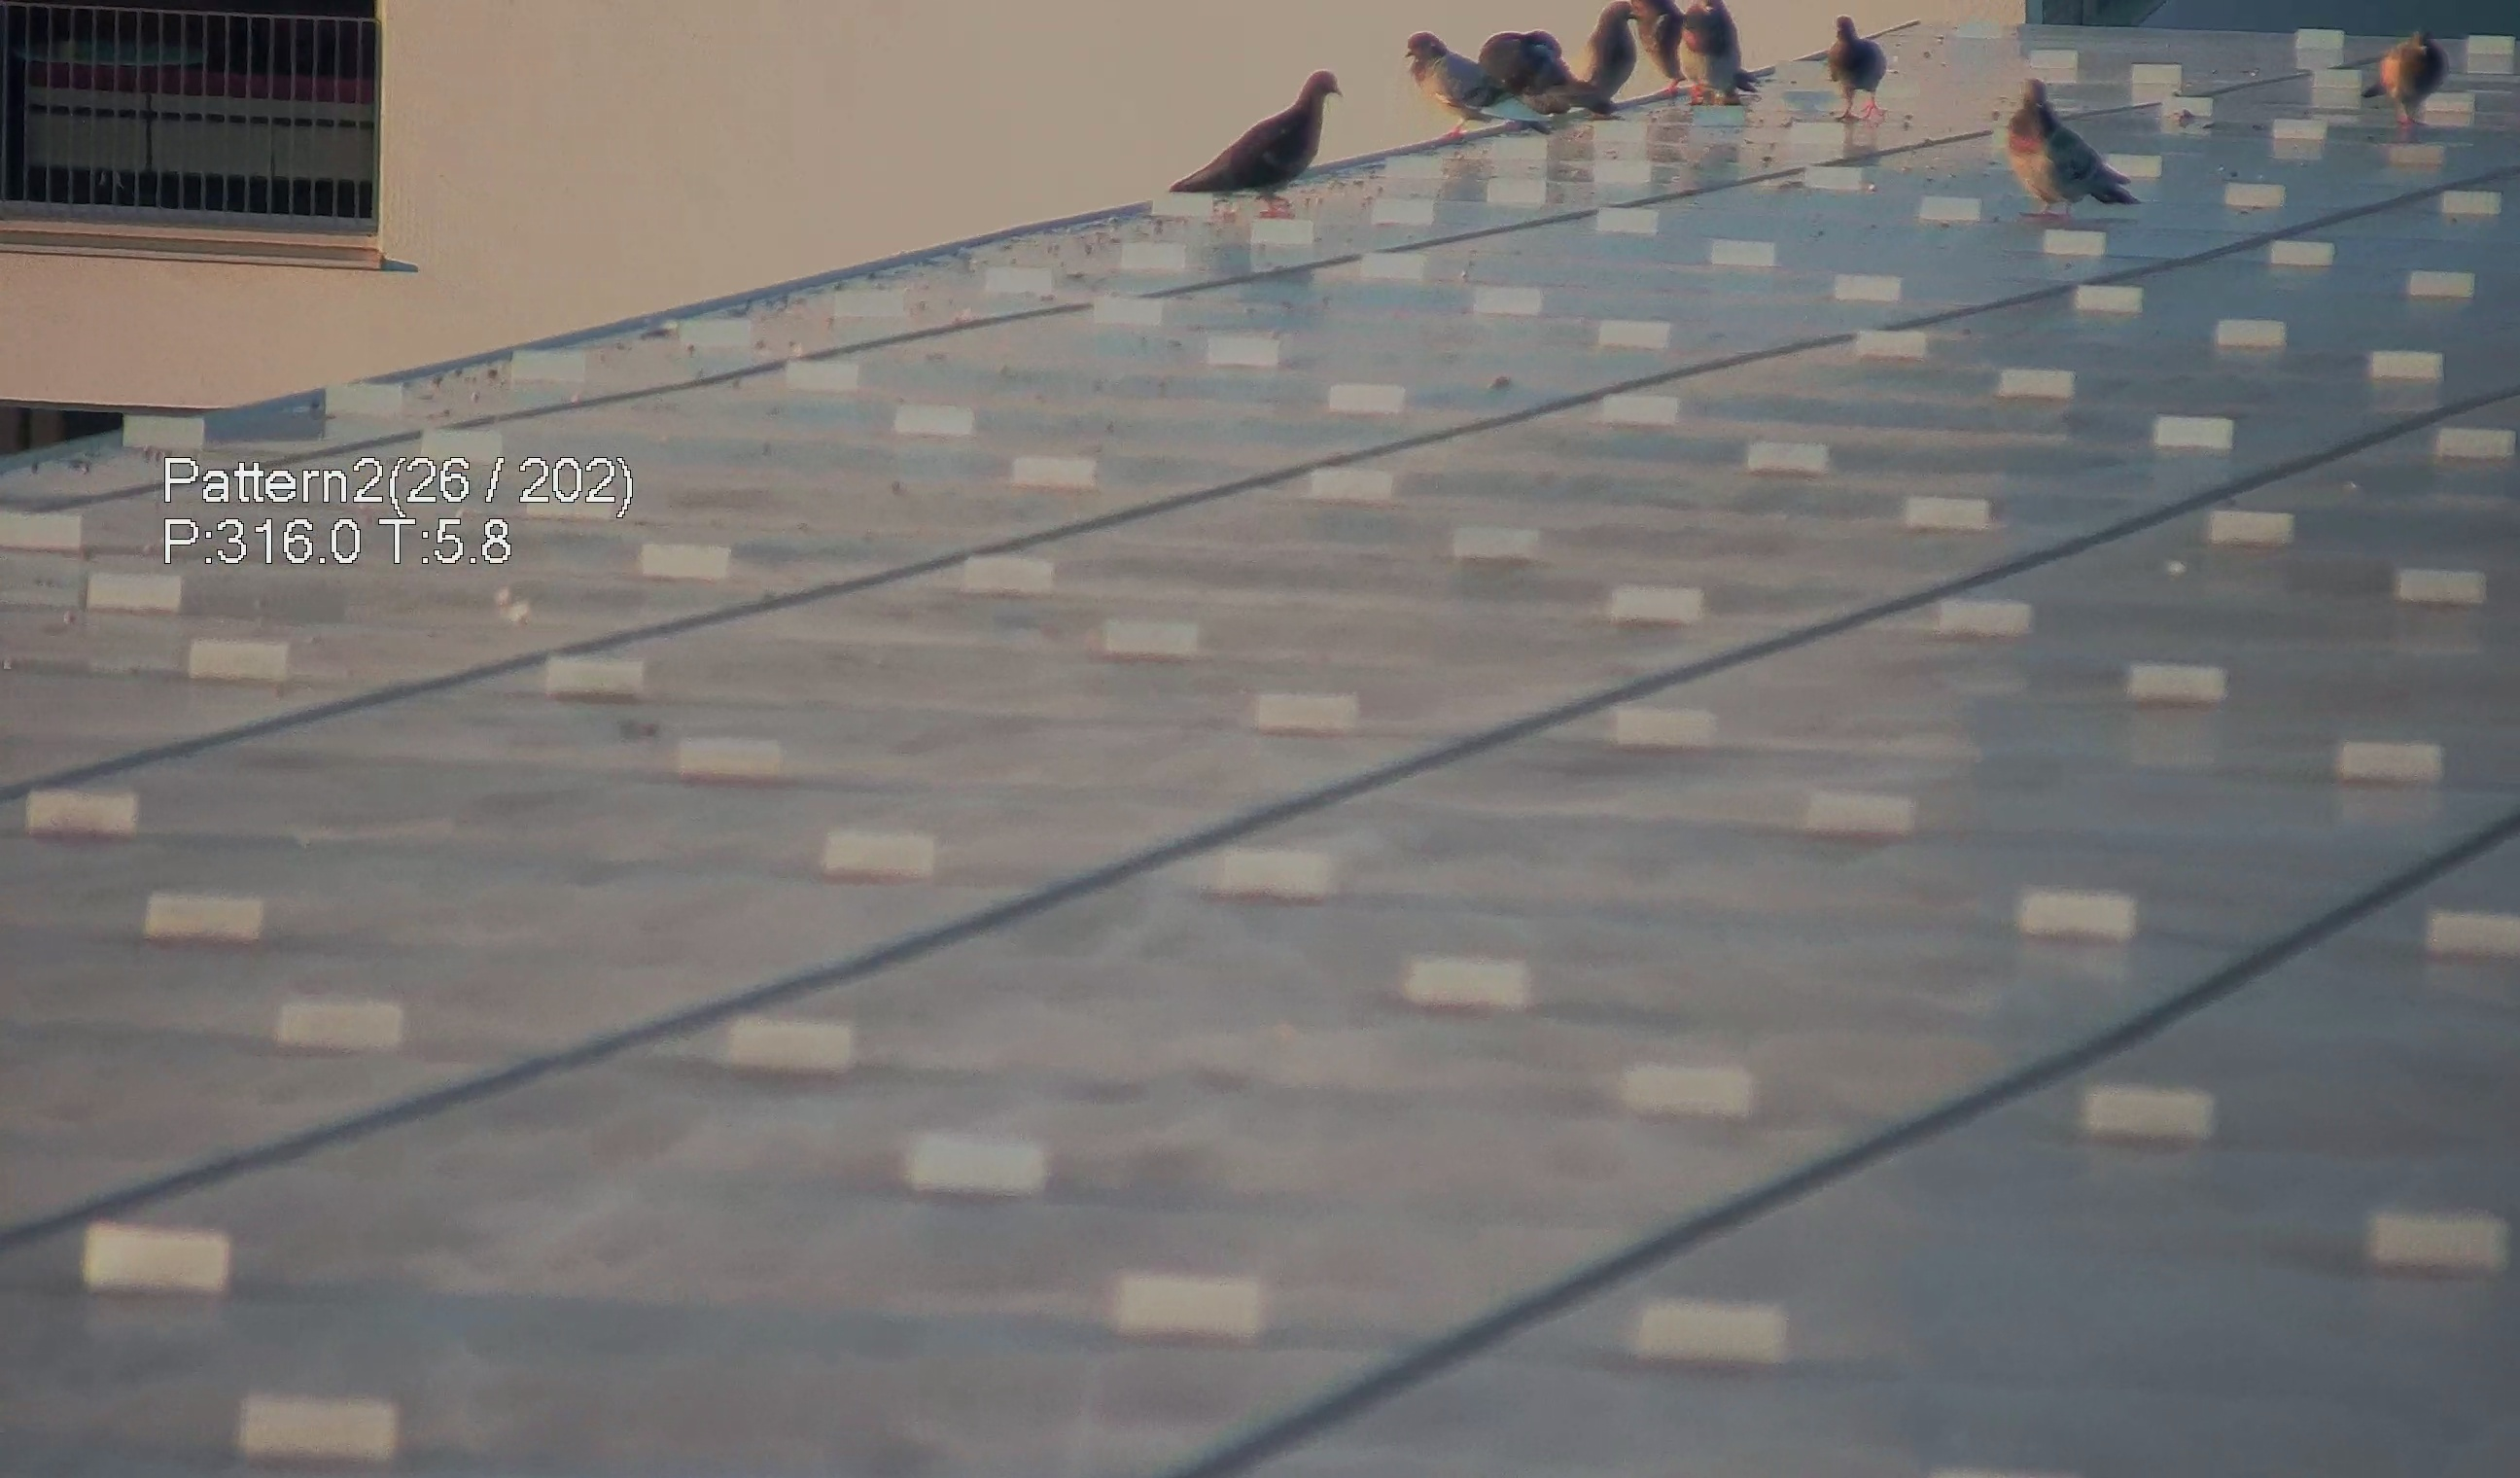Pigeon: (1176, 56, 1347, 199), (2003, 67, 2158, 223), (1402, 26, 1542, 139), (1470, 32, 1602, 130), (2360, 19, 2471, 127), (1818, 11, 1908, 135), (1685, 2, 1759, 116), (1579, 2, 1635, 113)
